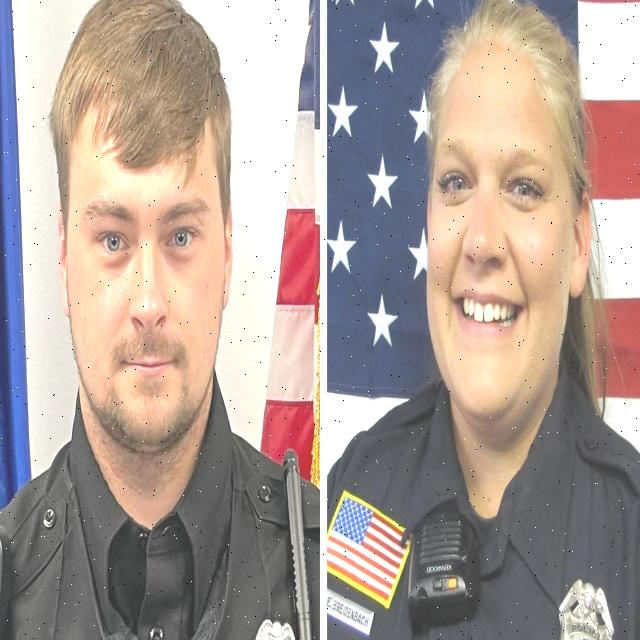police: (0, 0, 334, 640), (338, 0, 640, 640)
